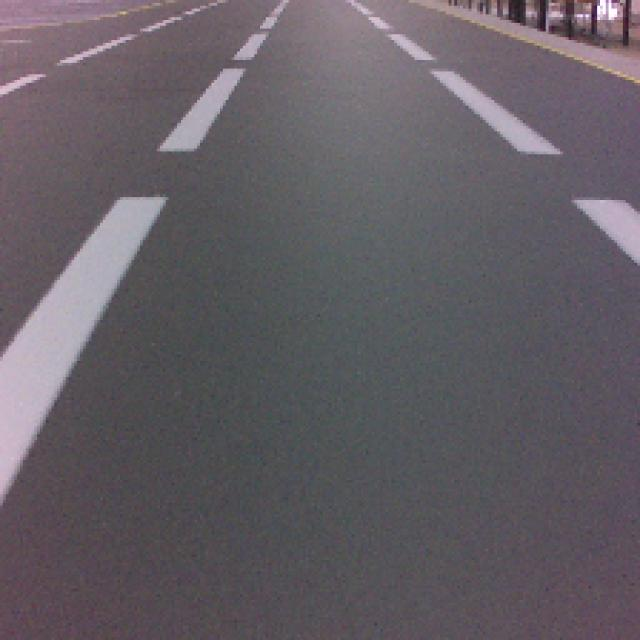Guard rail: (106, 208, 107, 210)
Road: (0, 202, 639, 519)
